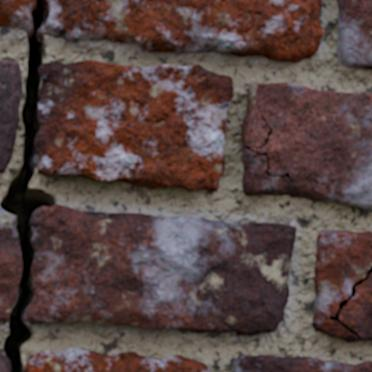brick: (35, 60, 232, 190), (242, 83, 371, 209), (313, 231, 371, 341), (25, 348, 210, 371), (337, 0, 371, 68), (0, 61, 20, 171), (232, 356, 371, 371), (340, 274, 371, 339), (0, 353, 8, 371)
broken_brick: (25, 204, 296, 335), (41, 0, 324, 63), (0, 210, 21, 321), (0, 0, 29, 32)
crack: (0, 0, 56, 371), (244, 113, 294, 183), (329, 266, 371, 339)
